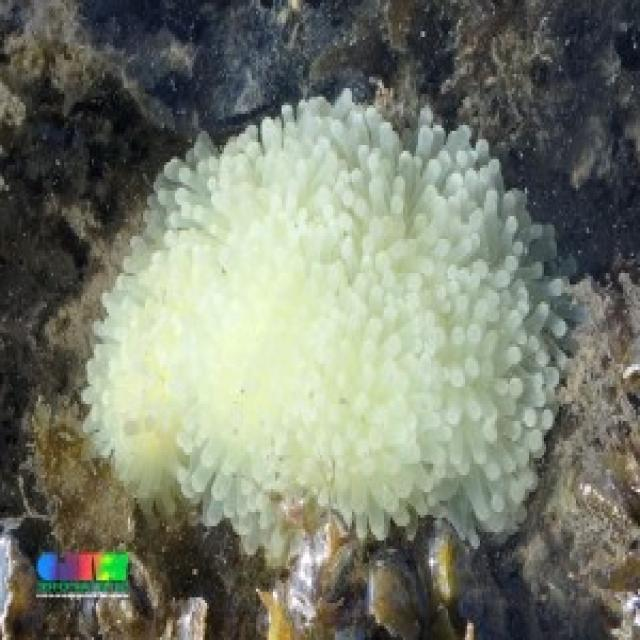Bleached: (86, 101, 561, 556)
